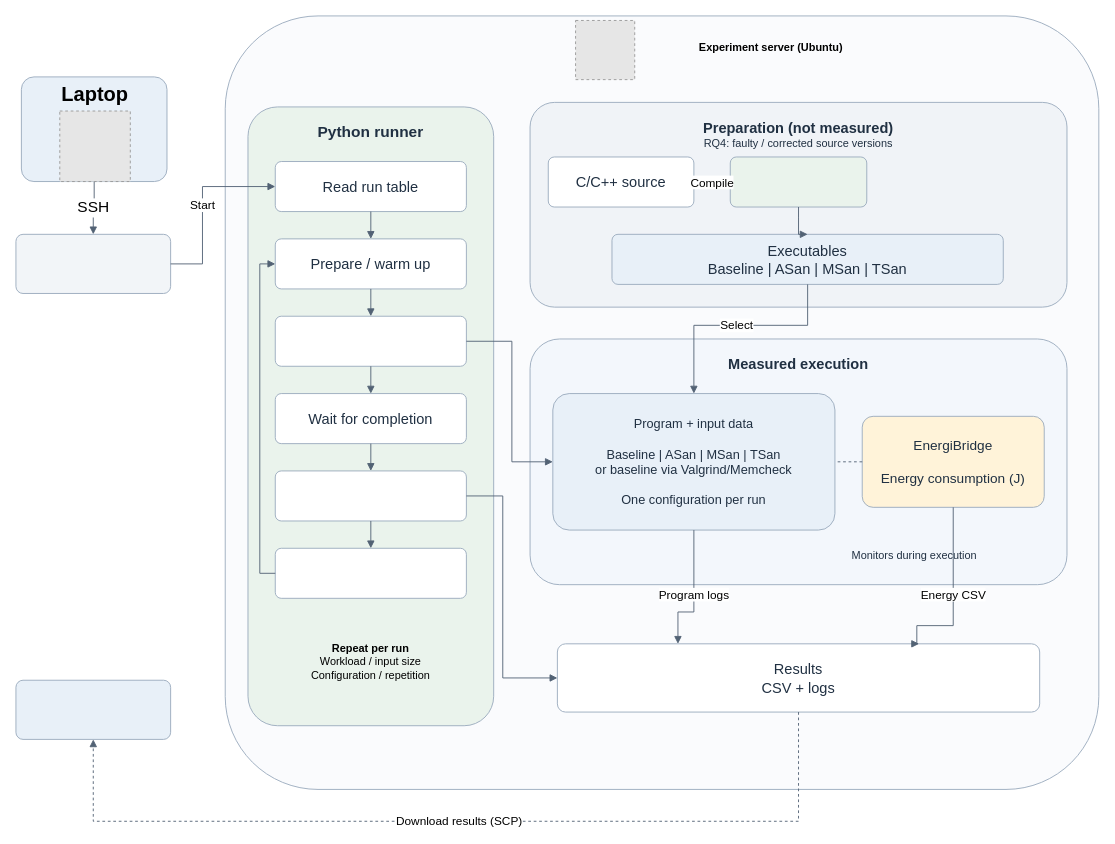
The diagram is 1115 pixels wide and 844 high, and some of its shapes have lost their labels. Grey dashed boxes stand in for pictures. The shapes that lost their labels are listed below. From the top down, each one's centre as x and y in pixels, then its label:
At point (798, 181): "Clang/LLVM".
At point (93, 263): "SSH gateway".
At point (370, 340): "Execute + measure".
At point (370, 495): "Validate + save".
At point (370, 572): "Cool down".
At point (93, 709): "Analysis on laptop".
